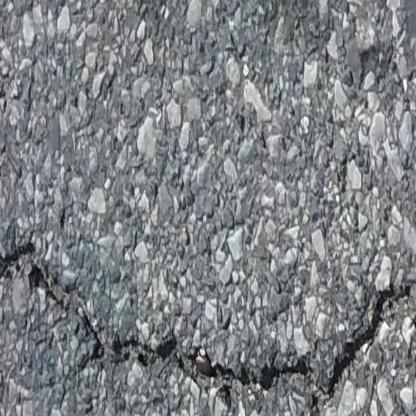Cracks: (0, 246, 416, 405)
